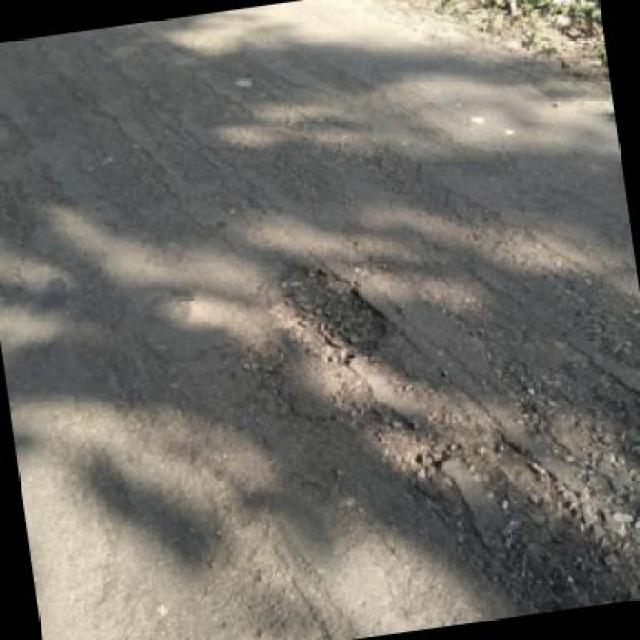pothole1: (259, 249, 396, 377)
